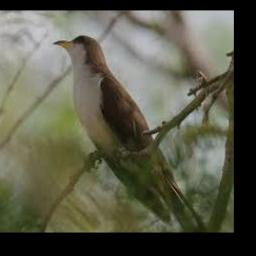Cuckoo: (53, 36, 208, 233)
